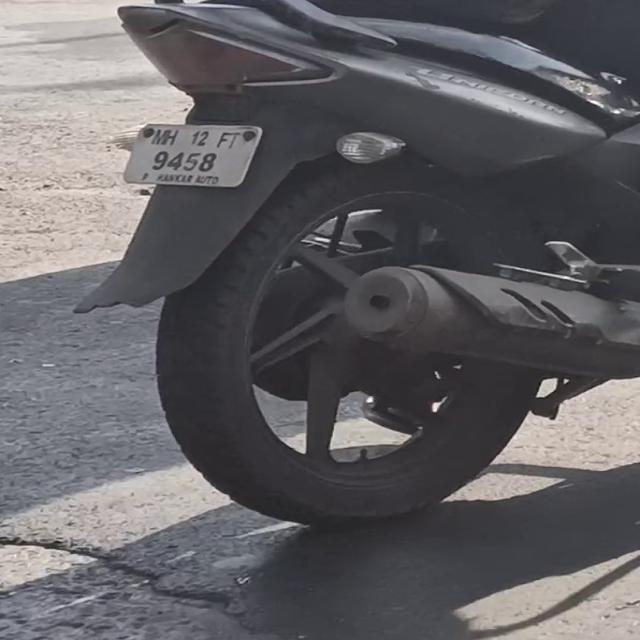licenseplate: (120, 121, 263, 190)
